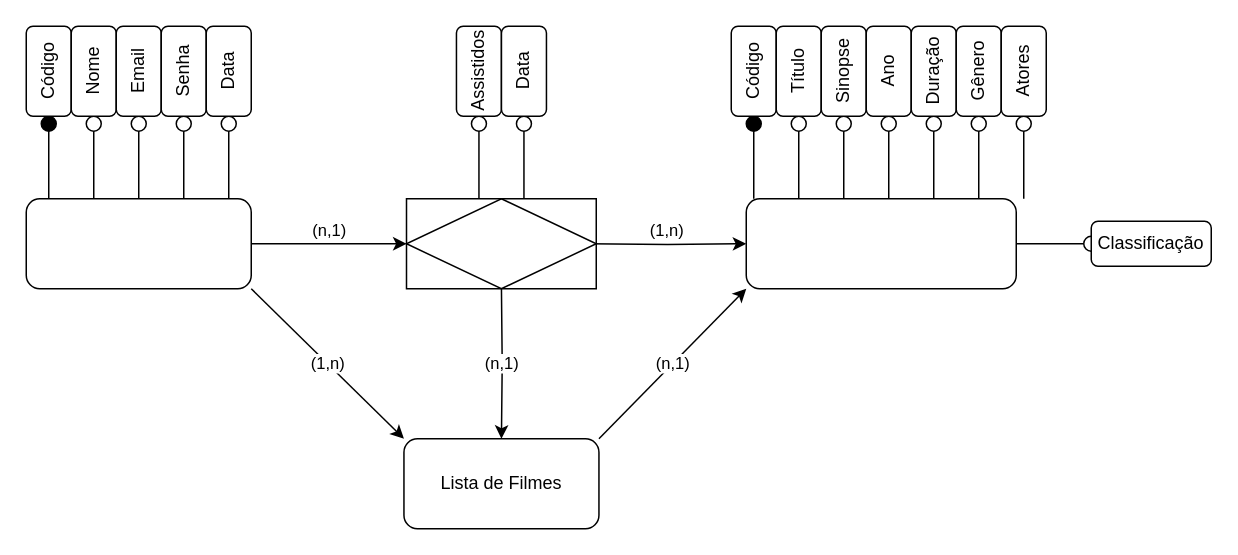
Image size: 1238x555. Some labels were removed from this diagram. The shapes that lost their labels are listed below. From the top down, each one's centre as x and y in pixels, then its label:
the point at 138,243: Usuário
the point at 500,243: FIlmes
the point at 880,243: Catálogo
